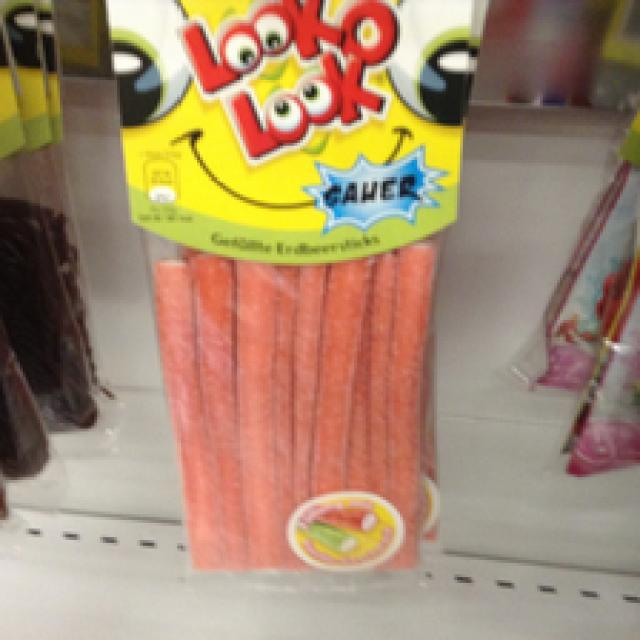groceries: (114, 0, 460, 577)
